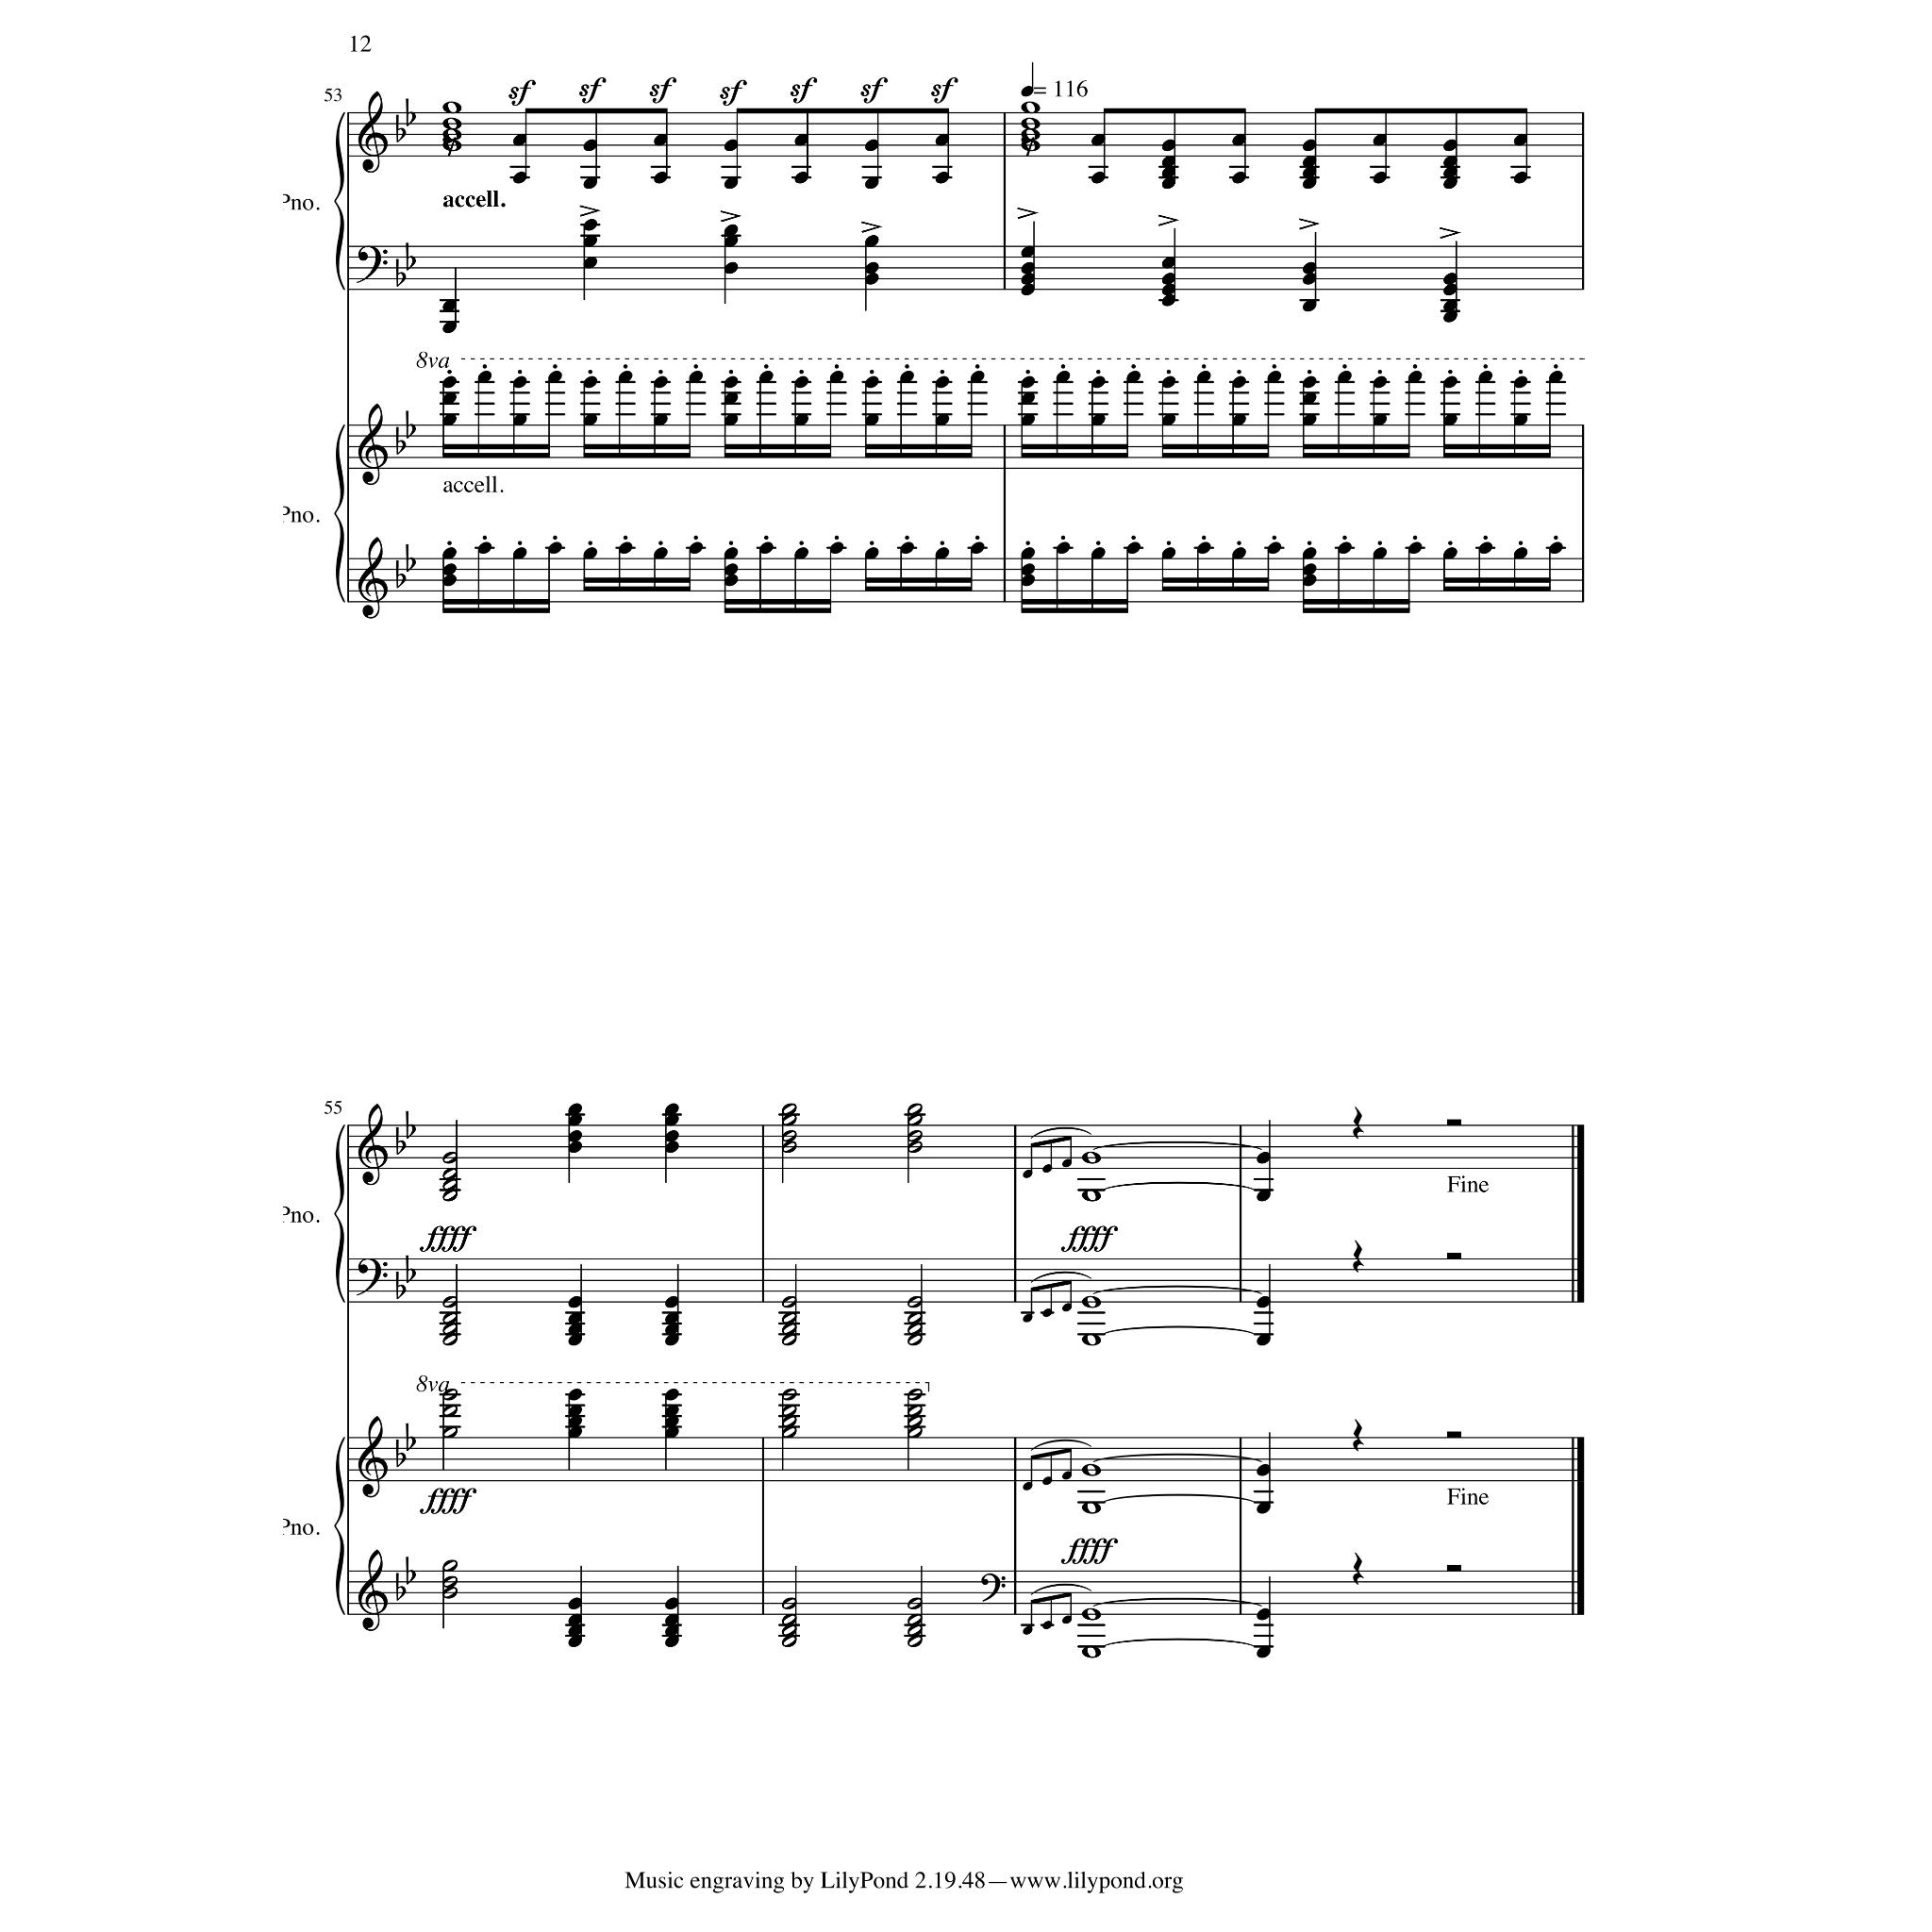brace: (334, 111, 345, 291), (334, 424, 345, 603), (334, 1436, 345, 1615), (334, 1124, 345, 1303)
fClef: (356, 1257, 388, 1296), (356, 245, 388, 283)
gClef: (358, 403, 388, 486), (358, 536, 388, 619), (358, 90, 388, 173), (358, 1415, 388, 1498), (358, 1103, 388, 1186), (358, 1548, 388, 1631)
noteheadBlack: (1196, 370, 1211, 383), (1196, 541, 1211, 554), (1160, 375, 1175, 389), (1302, 375, 1317, 389), (1160, 175, 1175, 189), (1160, 165, 1175, 178), (1160, 155, 1175, 168), (1160, 138, 1175, 151), (1160, 293, 1175, 307), (1160, 282, 1175, 295), (1160, 272, 1175, 285), (1160, 256, 1175, 269), (1160, 413, 1175, 426), (1160, 546, 1175, 559), (1267, 541, 1282, 554), (1267, 370, 1282, 383), (1302, 175, 1317, 189), (1302, 165, 1317, 178), (1302, 155, 1317, 168), (1302, 138, 1317, 151), (1302, 298, 1317, 311), (1302, 272, 1317, 285), (1302, 260, 1317, 274), (1302, 413, 1317, 426), (1302, 391, 1317, 405), (1231, 171, 1246, 184), (1231, 133, 1246, 146), (1231, 413, 1246, 426), (1231, 375, 1246, 389), (1231, 546, 1246, 559), (1020, 413, 1035, 426), (1020, 391, 1035, 405), (1020, 375, 1035, 389), (1020, 574, 1035, 587), (1020, 562, 1035, 575), (1020, 546, 1035, 559), (1125, 370, 1141, 383), (1125, 541, 1141, 554), (1056, 370, 1071, 383), (1056, 541, 1071, 554), (1091, 171, 1106, 184), (1091, 133, 1106, 146), (1091, 413, 1106, 426), (1091, 375, 1106, 389), (1091, 546, 1106, 559), (1512, 546, 1527, 559), (1548, 370, 1563, 383), (1548, 541, 1563, 554), (1477, 370, 1492, 383), (1477, 541, 1492, 554), (1512, 171, 1527, 184), (1512, 133, 1527, 146), (1512, 413, 1527, 426), (1512, 375, 1527, 389), (1372, 171, 1387, 184), (1337, 541, 1352, 554), (1372, 133, 1387, 146), (1372, 413, 1387, 426), (1372, 375, 1387, 389), (1372, 546, 1387, 559), (1302, 574, 1317, 587), (1302, 562, 1317, 575), (1302, 546, 1317, 559), (1337, 370, 1352, 383), (1442, 138, 1457, 151), (1442, 309, 1457, 323), (1442, 298, 1457, 311), (1442, 282, 1457, 295), (1442, 272, 1457, 285), (1442, 413, 1457, 426), (1442, 375, 1457, 389), (1442, 546, 1457, 559), (1442, 155, 1457, 168), (1407, 370, 1423, 383), (1407, 541, 1423, 554), (1442, 175, 1457, 189), (1442, 165, 1457, 178), (582, 175, 597, 189), (582, 138, 597, 151), (582, 256, 597, 269), (582, 234, 597, 247), (582, 218, 597, 231), (582, 413, 597, 426), (582, 375, 597, 389), (582, 546, 597, 559), (512, 546, 527, 559), (547, 370, 562, 383), (547, 541, 562, 554), (653, 171, 668, 184), (653, 133, 668, 146), (653, 413, 668, 426), (653, 375, 668, 389), (653, 546, 668, 559), (1020, 244, 1035, 258), (688, 370, 703, 383), (618, 370, 633, 383), (512, 375, 527, 389), (618, 541, 633, 554), (441, 321, 457, 334), (441, 298, 457, 311), (441, 413, 457, 426), (441, 391, 457, 405), (476, 370, 491, 383), (476, 541, 491, 554), (512, 171, 527, 184), (512, 133, 527, 146), (512, 413, 527, 426), (441, 375, 457, 389), (441, 574, 457, 587), (441, 562, 457, 575), (441, 546, 457, 559), (899, 370, 914, 383), (899, 541, 914, 554), (864, 138, 879, 151), (688, 541, 703, 554), (864, 175, 879, 189), (864, 272, 879, 285), (864, 260, 879, 274), (864, 234, 879, 247), (864, 413, 879, 426), (864, 375, 879, 389), (864, 546, 879, 559), (970, 370, 985, 383), (970, 541, 985, 554), (1020, 282, 1035, 295), (1020, 272, 1035, 285), (1020, 260, 1035, 274), (935, 171, 950, 184), (935, 133, 950, 146), (935, 413, 950, 426), (935, 375, 950, 389), (935, 546, 950, 559), (724, 546, 739, 559), (828, 541, 843, 554), (758, 370, 774, 383), (758, 541, 774, 554), (724, 138, 739, 151), (724, 175, 739, 189), (724, 260, 739, 274), (724, 234, 739, 247), (724, 223, 739, 236), (724, 413, 739, 426), (724, 391, 739, 405), (724, 375, 739, 389), (724, 574, 739, 587), (724, 562, 739, 575), (793, 171, 808, 184), (793, 413, 808, 426), (793, 375, 808, 389), (793, 546, 808, 559), (793, 133, 808, 146), (828, 370, 843, 383), (1256, 1607, 1271, 1621), (1256, 1645, 1271, 1658), (1256, 1463, 1271, 1476), (1256, 1501, 1271, 1514), (1256, 1295, 1271, 1308), (1256, 1333, 1271, 1346), (1256, 1151, 1271, 1164), (1256, 1189, 1271, 1202), (567, 1103, 582, 1116), (567, 1597, 582, 1610), (567, 1613, 582, 1626), (567, 1624, 582, 1637), (567, 1635, 582, 1648), (567, 1388, 582, 1401), (567, 1404, 582, 1417), (567, 1415, 582, 1428), (567, 1425, 582, 1439), (567, 1295, 582, 1308), (567, 1311, 582, 1324), (567, 1323, 582, 1336), (567, 1333, 582, 1346), (567, 1113, 582, 1126), (567, 1129, 582, 1142), (567, 1141, 582, 1154), (664, 1113, 679, 1126), (664, 1597, 679, 1610), (664, 1624, 679, 1637), (664, 1635, 679, 1648), (664, 1388, 679, 1401), (664, 1404, 679, 1417), (664, 1415, 679, 1428), (664, 1425, 679, 1439), (664, 1295, 679, 1308), (664, 1311, 679, 1324), (664, 1323, 679, 1336), (664, 1333, 679, 1346), (664, 1103, 679, 1116), (664, 1129, 679, 1142), (664, 1141, 679, 1154), (664, 1613, 679, 1626), (1041, 1476, 1053, 1486), (1041, 1308, 1053, 1318), (1041, 1164, 1053, 1174), (1041, 1621, 1053, 1630), (1060, 1615, 1072, 1624), (1060, 1471, 1072, 1480), (1060, 1303, 1072, 1312), (1060, 1158, 1072, 1168), (1023, 1313, 1032, 1323), (1023, 1625, 1032, 1635), (1023, 1481, 1032, 1491), (1023, 1169, 1032, 1178)
noteheadHalf: (441, 1333, 458, 1346), (441, 1559, 458, 1573), (441, 1575, 458, 1589), (441, 1586, 458, 1599), (441, 1388, 458, 1401), (441, 1404, 458, 1417), (441, 1425, 458, 1439), (441, 1295, 458, 1308), (441, 1311, 458, 1324), (441, 1323, 458, 1336), (441, 1151, 458, 1164), (441, 1167, 458, 1180), (441, 1178, 458, 1191), (441, 1189, 458, 1202), (906, 1113, 923, 1126), (906, 1597, 923, 1610), (906, 1613, 923, 1626), (906, 1624, 923, 1638), (906, 1635, 923, 1648), (906, 1388, 923, 1401), (906, 1404, 923, 1417), (906, 1415, 923, 1428), (906, 1425, 923, 1439), (906, 1295, 923, 1308), (906, 1311, 923, 1324), (906, 1323, 923, 1336), (906, 1333, 923, 1346), (906, 1103, 923, 1116), (906, 1129, 923, 1142), (906, 1141, 923, 1154), (781, 1129, 796, 1142), (781, 1597, 796, 1610), (781, 1613, 796, 1626), (781, 1624, 796, 1638), (781, 1388, 796, 1401), (781, 1404, 796, 1417), (781, 1415, 796, 1428), (781, 1425, 796, 1439), (781, 1295, 796, 1308), (781, 1311, 796, 1324), (781, 1323, 796, 1336), (781, 1333, 796, 1346), (781, 1103, 796, 1116), (781, 1113, 796, 1126), (781, 1635, 796, 1648), (781, 1141, 796, 1154)
noteheadWhole: (441, 138, 462, 151), (441, 127, 462, 141), (441, 117, 462, 130), (441, 100, 462, 113), (1081, 1295, 1102, 1308), (1081, 1333, 1102, 1346), (1081, 1151, 1102, 1164), (1081, 1189, 1102, 1202), (1081, 1501, 1102, 1514), (1081, 1607, 1102, 1621), (1081, 1645, 1102, 1658), (1081, 1463, 1102, 1476), (1021, 138, 1040, 151), (1021, 127, 1040, 141), (1021, 117, 1040, 130), (1021, 100, 1040, 113)
rest8th: (441, 136, 457, 157), (1021, 136, 1034, 157)
restHalf: (1446, 1564, 1461, 1572), (1446, 1431, 1461, 1439), (1446, 1252, 1461, 1259), (1446, 1119, 1461, 1126)
restQuarter: (1353, 1418, 1364, 1452), (1353, 1239, 1364, 1273), (1353, 1106, 1364, 1140), (1353, 1553, 1364, 1585)
